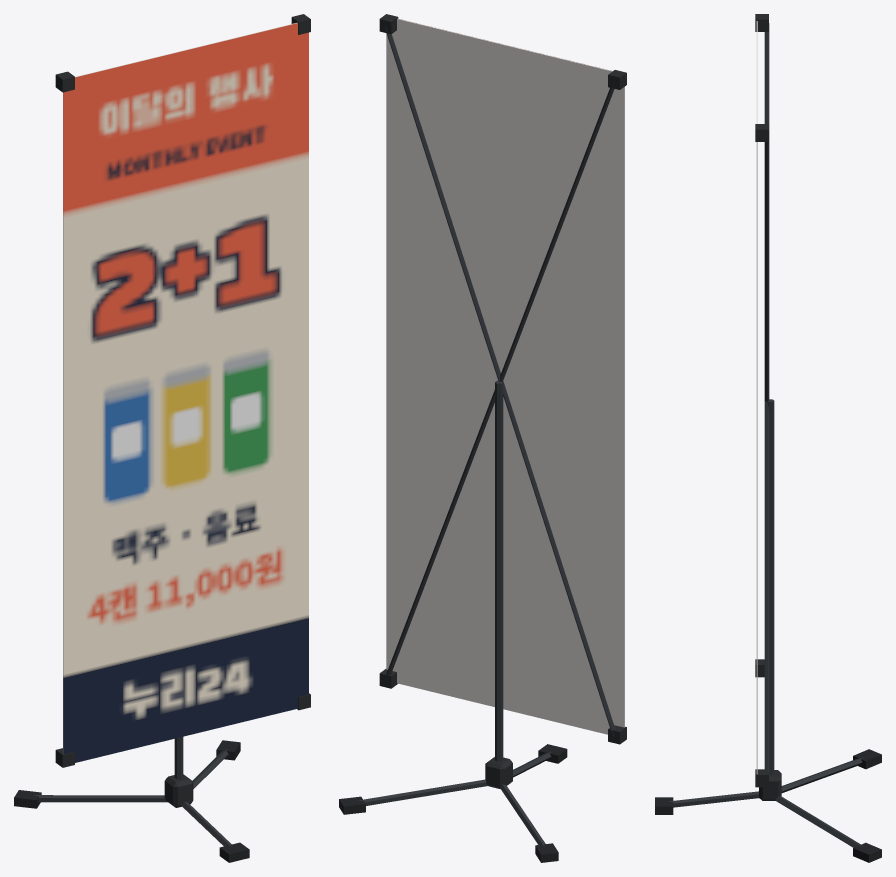
File: SC_Ter_X_Banner.gltf
The picture shows the model from 3 angles, left to right: view 1: azimuth 30°, elevation 25°; view 2: azimuth 150°, elevation 25°; view 3: azimuth 270°, elevation 25°; orthographic projection. The views are drawn at different scales.
Visible parts, largest first — view 1: SC_Ter_X_Banner; view 2: SC_Ter_X_Banner; view 3: SC_Ter_X_Banner.
Part boxes in pixels (x1,y1,x2,y2): SC_Ter_X_Banner: [14, 14, 310, 862]; SC_Ter_X_Banner: [339, 14, 626, 862]; SC_Ter_X_Banner: [655, 14, 881, 862].
Size of the model in its own units: 0.606 by 1.8 by 0.5018.
2 materials, 2 textured.
